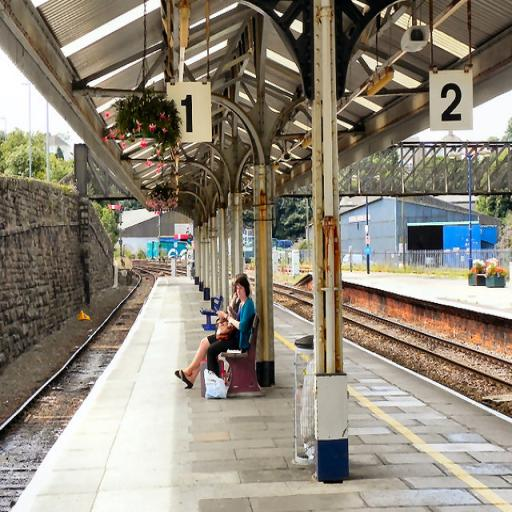platform_edge: (281, 312, 512, 512), (8, 296, 161, 512)
